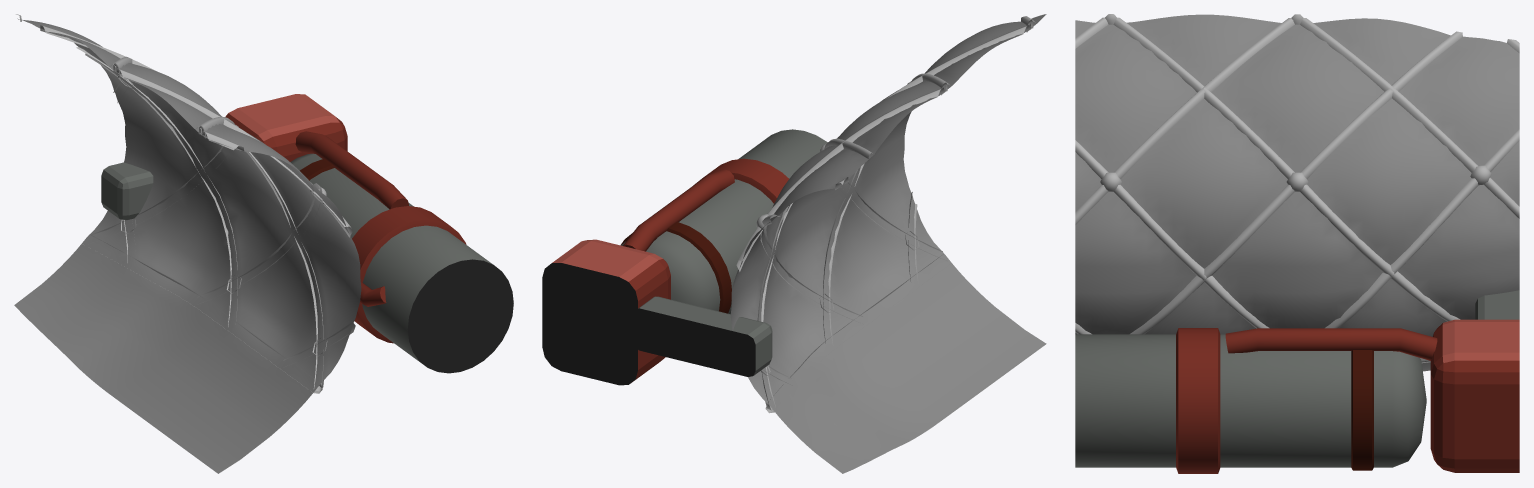
File: zeppelin_83.glb
3 views of the same model, side by side, from view 1: azimuth 30°, elevation 25°; view 2: azimuth 150°, elevation 25°; view 3: azimuth 270°, elevation 25° (orthographic). The views are drawn at different scales.
Parts seen in each view (by area): view 1: envelope.001, gun_body_r.001, net_ropes.001, gun_mount_r.001, gun_band_r.001, gun_pipe_top_r.001, gun_strut_r.001; view 2: envelope.001, gun_mount_r.001, gun_body_r.001, gun_strut_r.001, net_ropes.001, gun_pipe_top_r.001, gun_band_r.001, gun_band3_r.001; view 3: envelope.001, gun_body_r.001, net_ropes.001, gun_mount_r.001, gun_band_r.001, gun_pipe_top_r.001, gun_band3_r.001, gun_strut_r.001, net_knots.001.
Part boxes in pixels (<box>): envelope.001: <box>14,18,361,473</box>; gun_body_r.001: <box>290,153,513,373</box>; net_ropes.001: <box>16,14,355,391</box>; gun_mount_r.001: <box>225,94,347,161</box>; gun_band_r.001: <box>352,206,466,343</box>; gun_pipe_top_r.001: <box>295,131,408,209</box>; gun_strut_r.001: <box>101,162,153,219</box>; envelope.001: <box>730,14,1046,473</box>; gun_mount_r.001: <box>542,239,670,385</box>; gun_body_r.001: <box>621,129,827,313</box>; gun_strut_r.001: <box>632,296,772,376</box>; net_ropes.001: <box>736,16,1035,410</box>; gun_pipe_top_r.001: <box>623,169,734,251</box>; gun_band_r.001: <box>693,158,788,203</box>; gun_band3_r.001: <box>621,222,731,313</box>; envelope.001: <box>1075,14,1519,371</box>; gun_body_r.001: <box>1075,334,1426,467</box>; net_ropes.001: <box>1075,17,1519,334</box>; gun_mount_r.001: <box>1430,319,1519,472</box>; gun_band_r.001: <box>1176,328,1220,473</box>; gun_pipe_top_r.001: <box>1225,328,1437,360</box>; gun_band3_r.001: <box>1351,350,1373,470</box>; gun_strut_r.001: <box>1475,290,1519,319</box>; net_knots.001: <box>1100,14,1491,191</box>.
Size of the model in its own units: 23.8 by 25.4 by 28.
